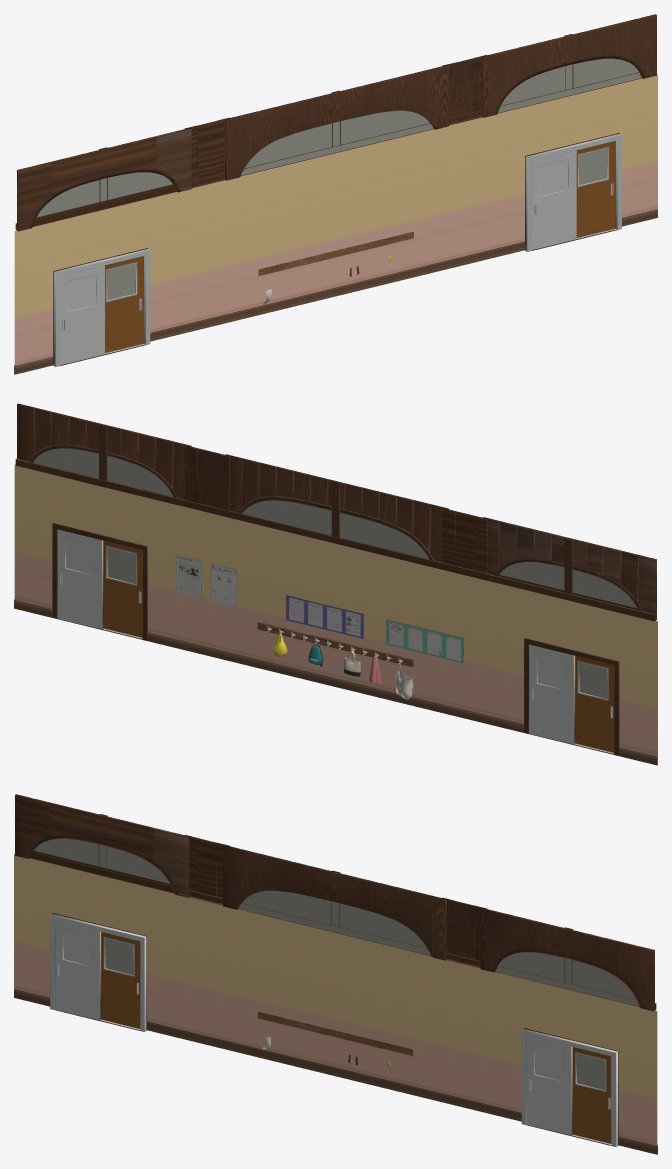
File: a_sch_class2g_hallwaywall01.gltf
3 renders of one model, top to bottom at view 1: azimuth 30°, elevation 25°; view 2: azimuth 150°, elevation 25°; view 3: azimuth 330°, elevation 25°, orthographic.
Visible parts, largest first — view 1: um_a_sch_class2g_hallwaywall01_model_a_sch_class2g_hallwaywa (×5); view 2: um_a_sch_class2g_hallwaywall01_model_a_sch_class2g_hallwaywa (×6); view 3: um_a_sch_class2g_hallwaywall01_model_a_sch_class2g_hallwaywa (×5).
Part boxes in pixels (x1,y1,x2,y2): um_a_sch_class2g_hallwaywall01_model_a_sch_class2g_hallwaywa (×5): (14,14,657,374); um_a_sch_class2g_hallwaywall01_model_a_sch_class2g_hallwaywa (×6): (14,403,657,765); um_a_sch_class2g_hallwaywall01_model_a_sch_class2g_hallwaywa (×5): (14,794,657,1154).
Bounding box in the file's own units: 15 × 4.55 × 0.3971.
6 materials, 6 textured.
